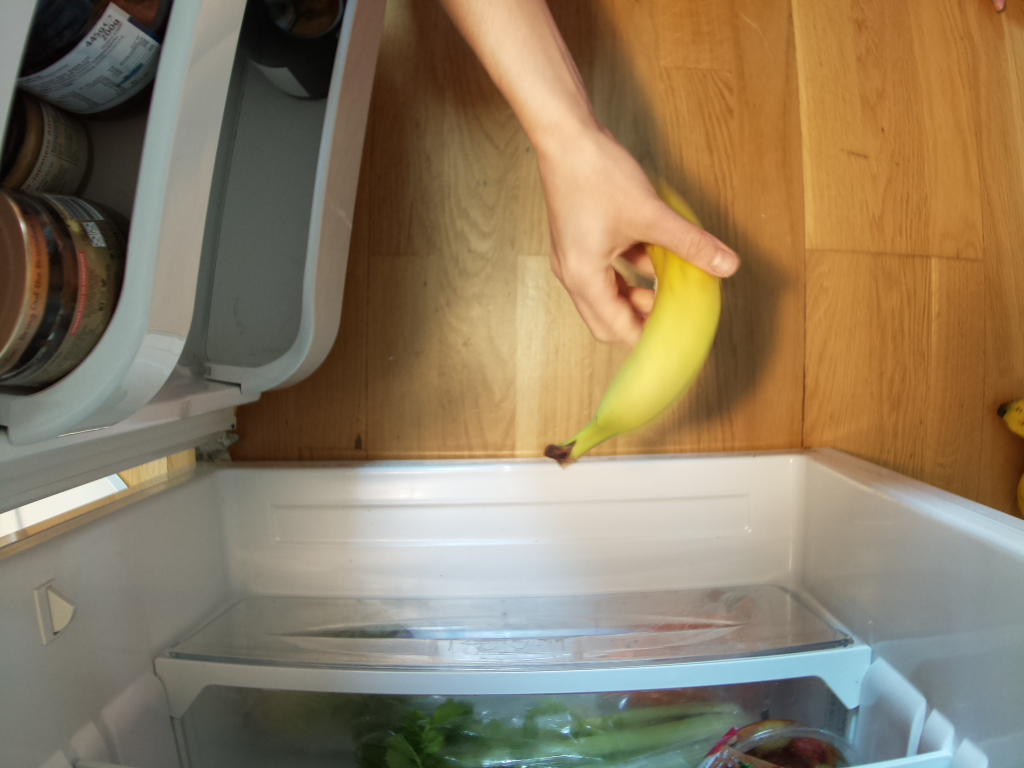banana: (549, 252, 719, 461)
